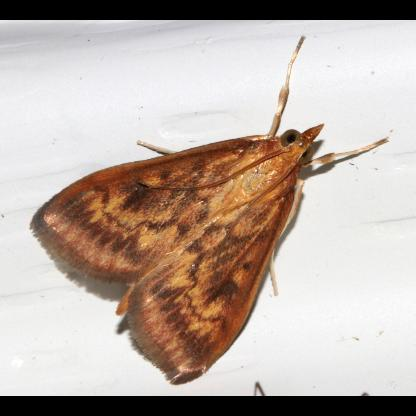Asian Corn Borer Moth: (28, 32, 392, 388)
